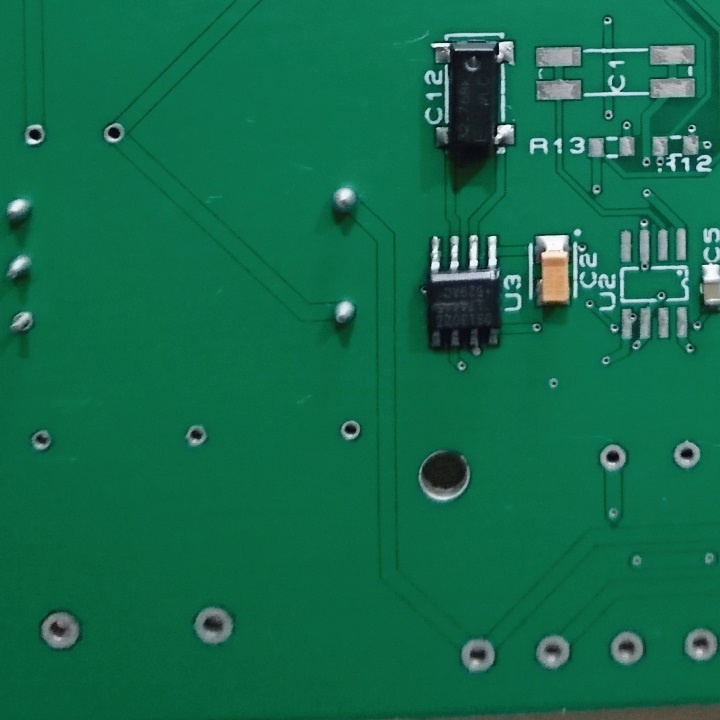F: (189, 599, 241, 654), (35, 608, 88, 655), (604, 623, 650, 672), (532, 629, 576, 675), (457, 637, 501, 677), (678, 626, 720, 667), (4, 306, 44, 339), (593, 443, 633, 475), (669, 438, 704, 473), (18, 120, 52, 149), (27, 426, 56, 455), (98, 120, 127, 149), (184, 422, 209, 448), (338, 417, 362, 444)
